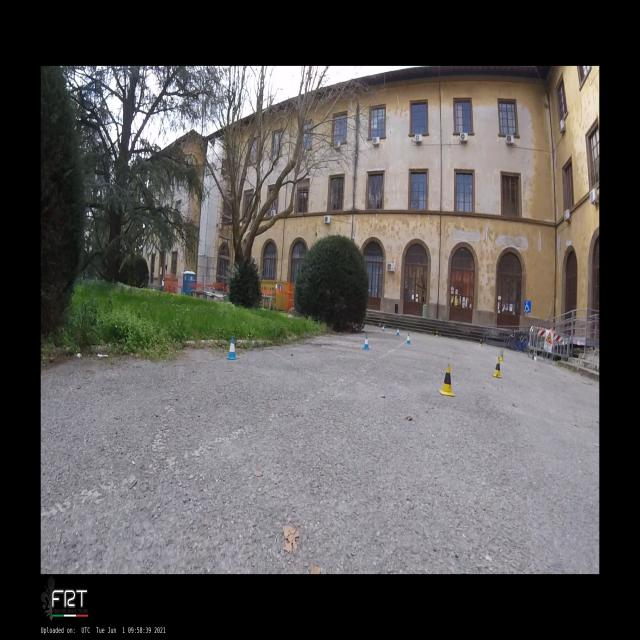blue_cone: (226, 337, 238, 360), (362, 334, 370, 350), (406, 332, 411, 344), (396, 327, 400, 337), (382, 324, 385, 332)
yellow_cone: (438, 364, 455, 397), (491, 358, 502, 378), (500, 349, 504, 362), (478, 338, 482, 348), (436, 330, 438, 338)
